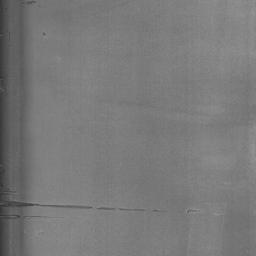Crease: (0, 200, 163, 213), (0, 214, 20, 219), (186, 209, 200, 214)
